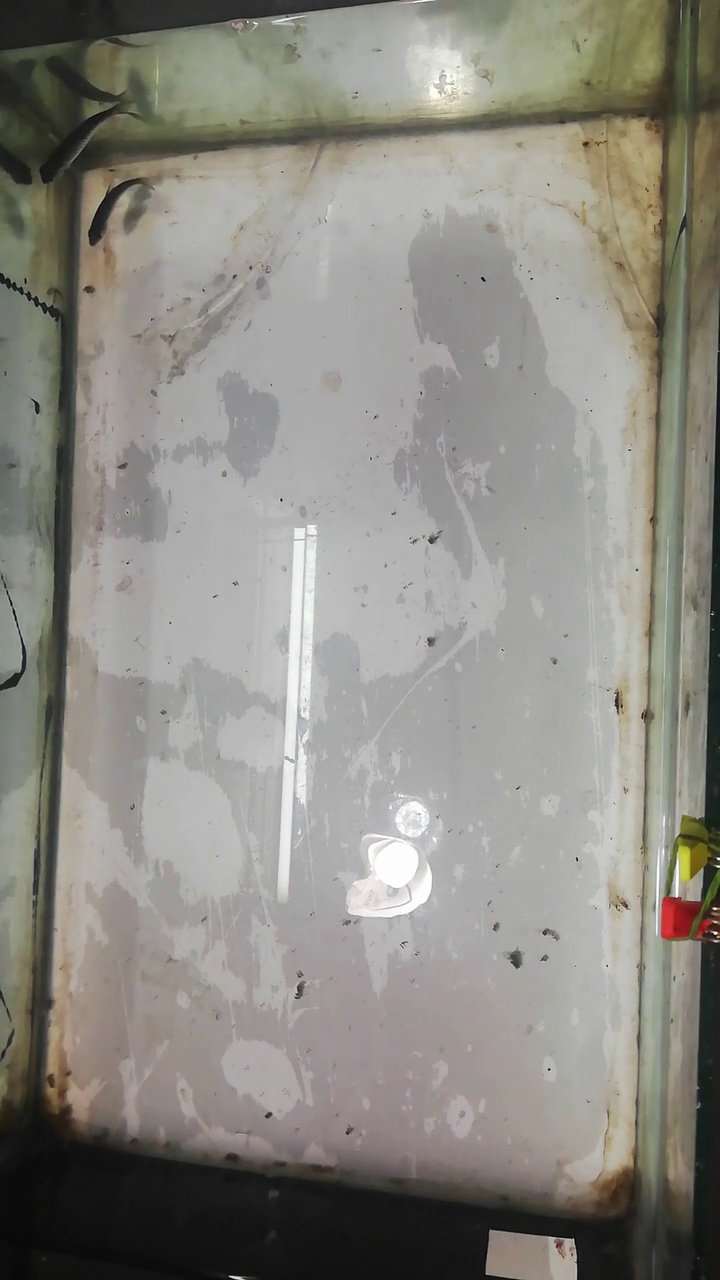fish1: (41, 109, 135, 182)
fish2: (87, 175, 145, 246)
